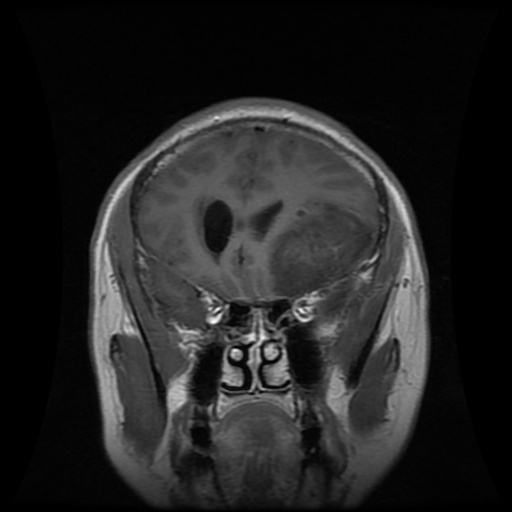glioma: (268, 205, 372, 296)
